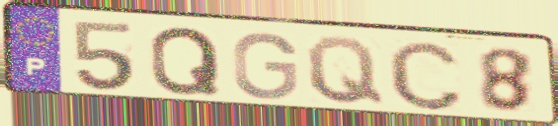5: (73, 20, 138, 93)
8: (475, 46, 536, 115)
C: (385, 38, 466, 113)
G: (230, 30, 301, 102)
Q: (303, 34, 388, 107), (148, 24, 224, 97)
